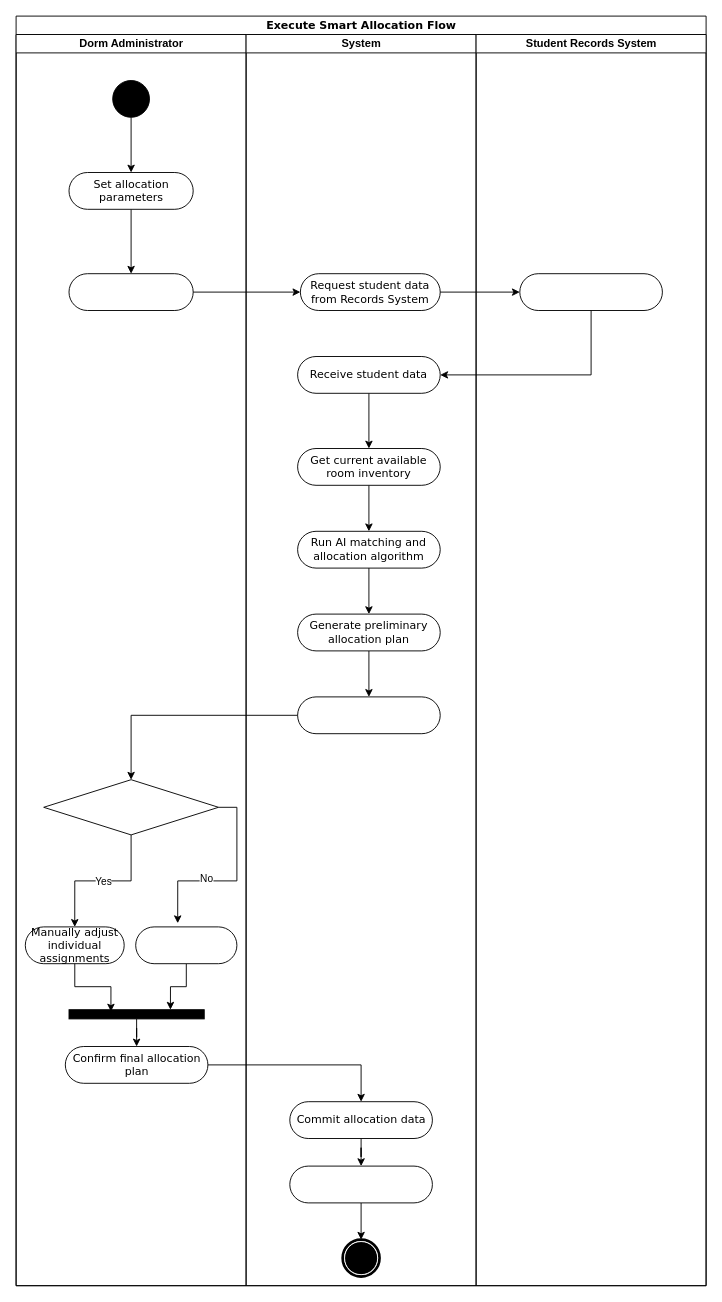
This 722x1302 diagram has some shape labels left out. Here are the shapes that lost their labels. From the top down, the centre of each, then its label:
At (130,291): "Initiate smart allocation".
At (590,291): "Query and return student profile data".
At (368,715): "Present preview plan to administrator".
At (130,807): "Manual adjustment needed?".
At (186,945): "Confirm final plan".
At (360,1184): "Publish allocation results to students".
